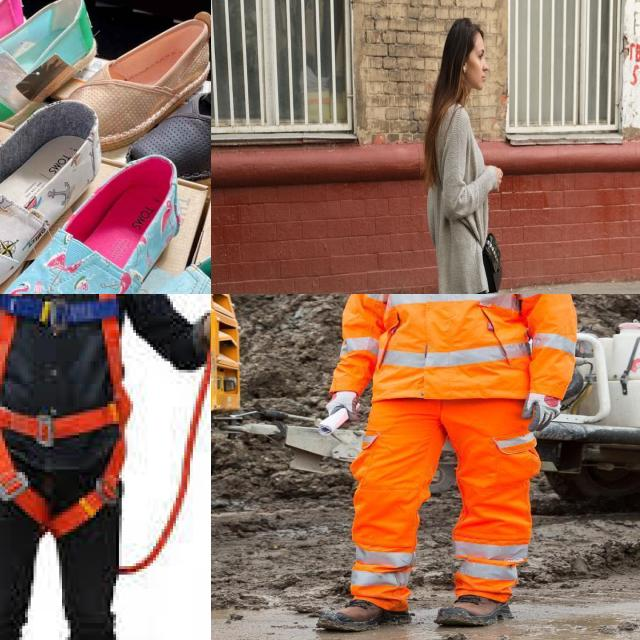Harness: (0, 294, 135, 536)
Sandals: (0, 143, 193, 294), (0, 80, 103, 294), (64, 181, 211, 294)
hand_glove: (314, 378, 380, 438), (520, 386, 578, 436)
person: (315, 294, 581, 627)
shoes: (432, 589, 518, 625), (327, 594, 409, 628)
vest: (338, 294, 579, 398)
